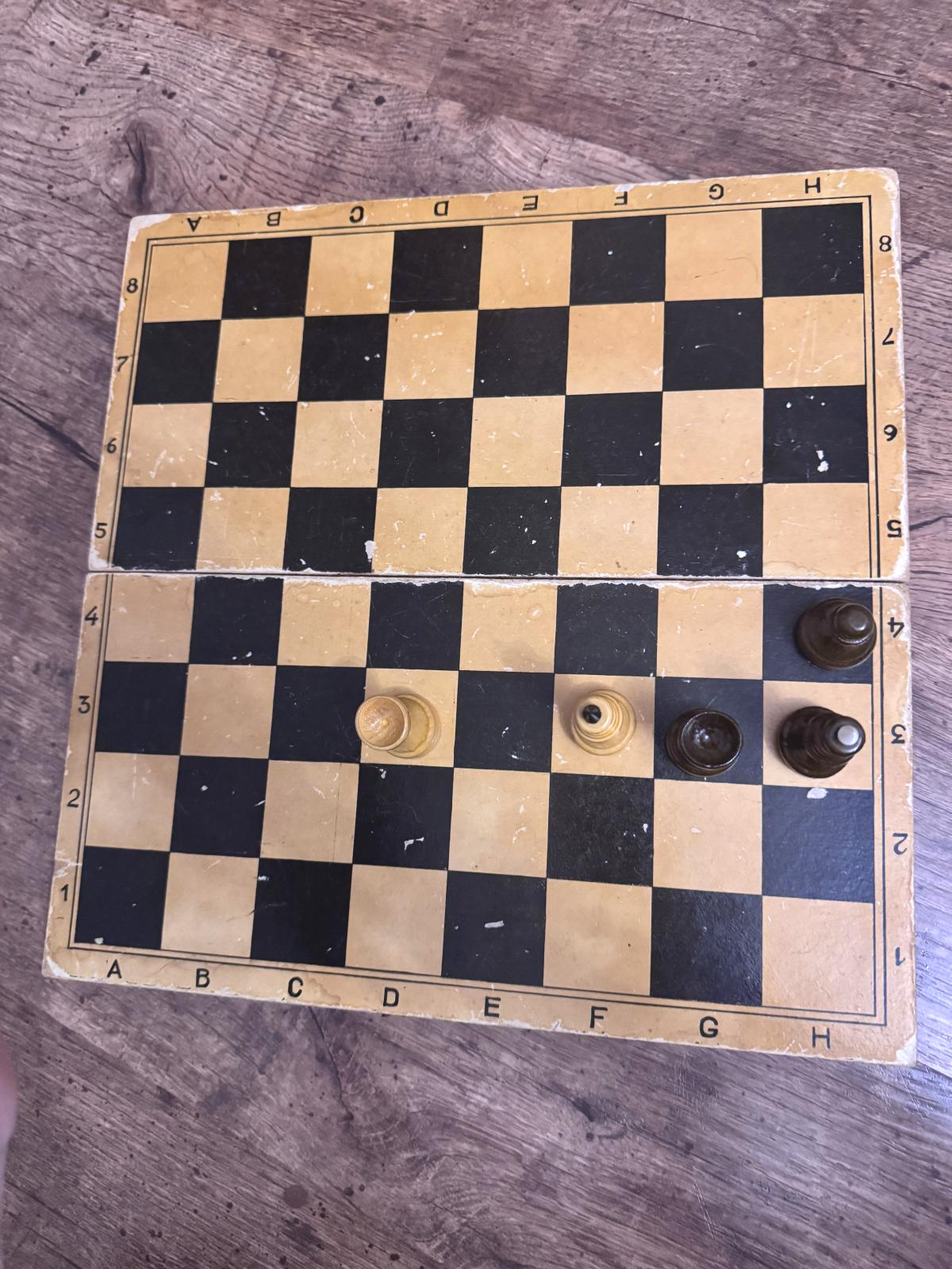Chess-Board: (74, 203, 875, 1015)
